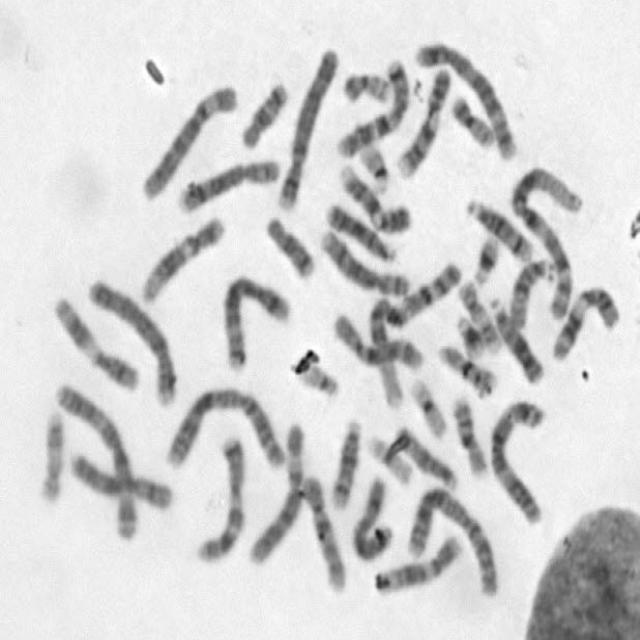A1: (366, 258, 464, 412), (505, 160, 580, 322)
A2: (403, 482, 501, 600), (160, 382, 287, 471)
A3: (52, 378, 140, 544), (486, 394, 546, 526)
B4: (85, 272, 179, 409), (274, 41, 338, 213)
B5: (412, 36, 519, 162), (220, 269, 292, 372)
C10: (330, 309, 424, 372), (300, 471, 347, 595)
C11: (51, 292, 140, 393), (547, 280, 621, 364)
C12: (137, 210, 228, 305), (370, 529, 464, 597)
C6: (137, 78, 239, 202), (243, 419, 310, 563)
C7: (333, 54, 412, 160), (197, 431, 250, 563)
C8: (315, 224, 411, 298), (173, 152, 283, 215)
C9: (392, 67, 453, 177), (336, 160, 411, 237)
D13: (486, 292, 544, 386), (322, 199, 397, 264)
D14: (463, 195, 533, 262), (326, 416, 364, 511)
D15: (386, 423, 458, 492), (507, 252, 557, 330)
E16: (435, 339, 497, 397), (449, 393, 489, 478)
E17: (456, 278, 501, 357), (35, 405, 65, 504)
E18: (238, 77, 290, 151), (263, 212, 316, 280)
F19: (406, 372, 448, 441), (365, 430, 413, 486)
F20: (448, 92, 496, 150), (338, 67, 392, 107)
G21: (470, 231, 501, 287), (452, 310, 486, 360)
G22: (358, 139, 392, 195), (301, 362, 340, 396)
X: (66, 446, 175, 514), (348, 471, 391, 563)
